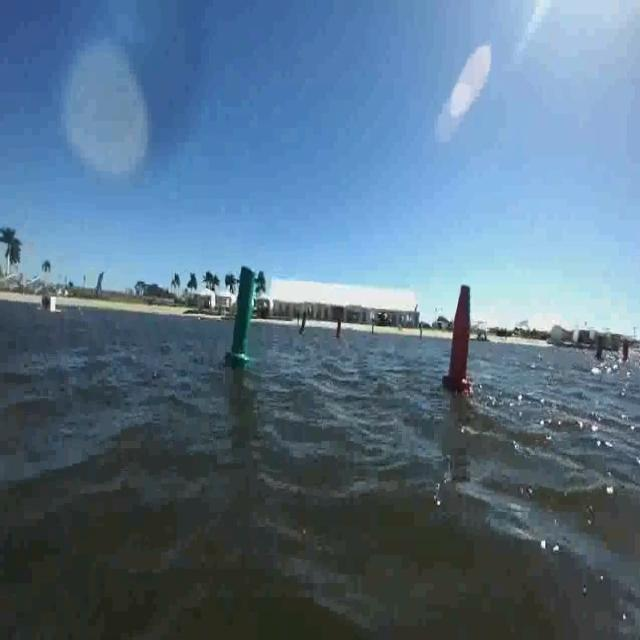green-column-buoy: (230, 263, 260, 365)
red-column-buoy: (444, 280, 475, 395)
